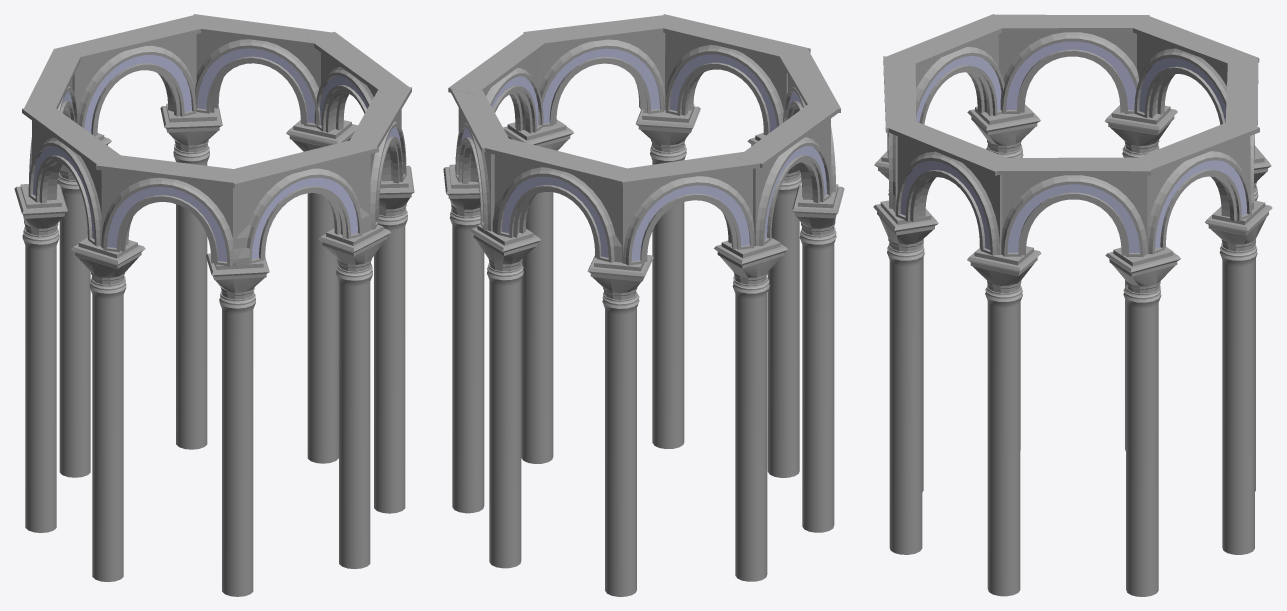
File: Arches.fbx
3 views of the same model, side by side, from view 1: azimuth 30°, elevation 25°; view 2: azimuth 150°, elevation 25°; view 3: azimuth 270°, elevation 25° (orthographic). The views are drawn at different scales.
Visible parts, largest first — view 1: Archtop9, columnUVed6, columnUVed8, columnUVed1, columnUVed7, columnUVed2, Archtop8, columnUVed5, Archtop7, Archtop2, columnUVed3, columnUVed4 (+11 smaller); view 2: columnUVed6, columnUVed7, columnUVed4, columnUVed5, columnUVed3, Archtop7, Archtop4, columnUVed8, Archtop9, Archtop10, columnUVed2, columnUVed1 (+11 smaller); view 3: columnUVed2, columnUVed1, Archtops3, columnUVed3, columnUVed4, Archtop3, Archtop10, Archtop2, Archtop4, Archtop8, Archtop9, Archtop7 (+6 smaller).
Boxes of the visible parts, bbox=[...] form: Archtop9: bbox=[232, 140, 378, 265]; columnUVed6: bbox=[22, 230, 59, 532]; columnUVed8: bbox=[219, 294, 255, 596]; columnUVed1: bbox=[336, 266, 372, 568]; columnUVed7: bbox=[90, 279, 126, 581]; columnUVed2: bbox=[374, 210, 407, 513]; Archtop8: bbox=[96, 155, 239, 266]; columnUVed5: bbox=[57, 176, 90, 477]; Archtop7: bbox=[56, 15, 200, 136]; Archtop2: bbox=[191, 14, 331, 127]; columnUVed3: bbox=[307, 193, 338, 463]; columnUVed4: bbox=[173, 146, 209, 449]; columnUVed6: bbox=[732, 278, 769, 581]; columnUVed7: bbox=[799, 230, 836, 532]; columnUVed4: bbox=[487, 265, 523, 568]; columnUVed5: bbox=[602, 294, 639, 596]; columnUVed3: bbox=[449, 211, 484, 513]; Archtop7: bbox=[485, 138, 626, 262]; Archtop4: bbox=[619, 152, 759, 265]; columnUVed8: bbox=[767, 177, 801, 477]; Archtop9: bbox=[662, 14, 810, 135]; Archtop10: bbox=[523, 15, 666, 126]; columnUVed2: bbox=[521, 192, 553, 463]; columnUVed1: bbox=[650, 147, 686, 448]; columnUVed2: bbox=[985, 287, 1022, 596]; columnUVed1: bbox=[887, 246, 924, 554]; Archtops3: bbox=[996, 157, 1150, 256]; columnUVed3: bbox=[1123, 286, 1161, 596]; columnUVed4: bbox=[1219, 246, 1257, 554]; Archtop3: bbox=[995, 14, 1149, 113]; Archtop10: bbox=[888, 120, 1006, 255]; Archtop2: bbox=[1138, 121, 1259, 254]; Archtop4: bbox=[1133, 16, 1259, 124]; Archtop8: bbox=[886, 14, 1004, 124]; Archtop9: bbox=[883, 56, 916, 213]; Archtop7: bbox=[1225, 59, 1258, 210].
Size of the model in its own units: 10.01 by 11.71 by 9.93.
